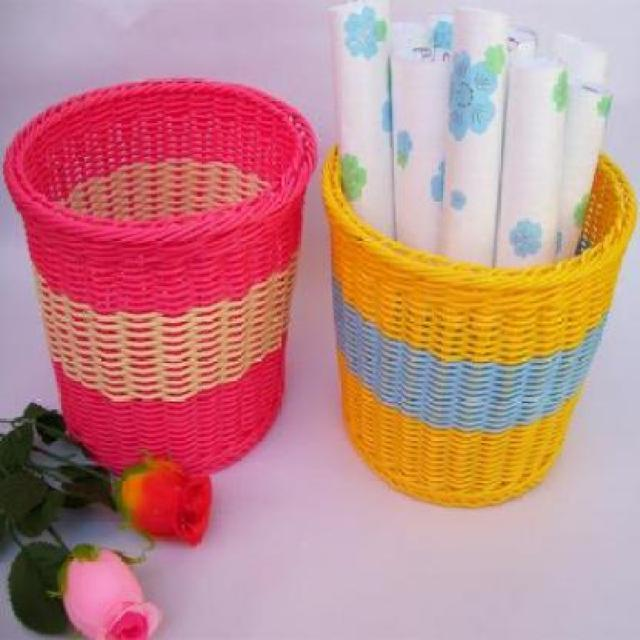dustbin: (3, 72, 322, 480), (317, 111, 639, 513)
